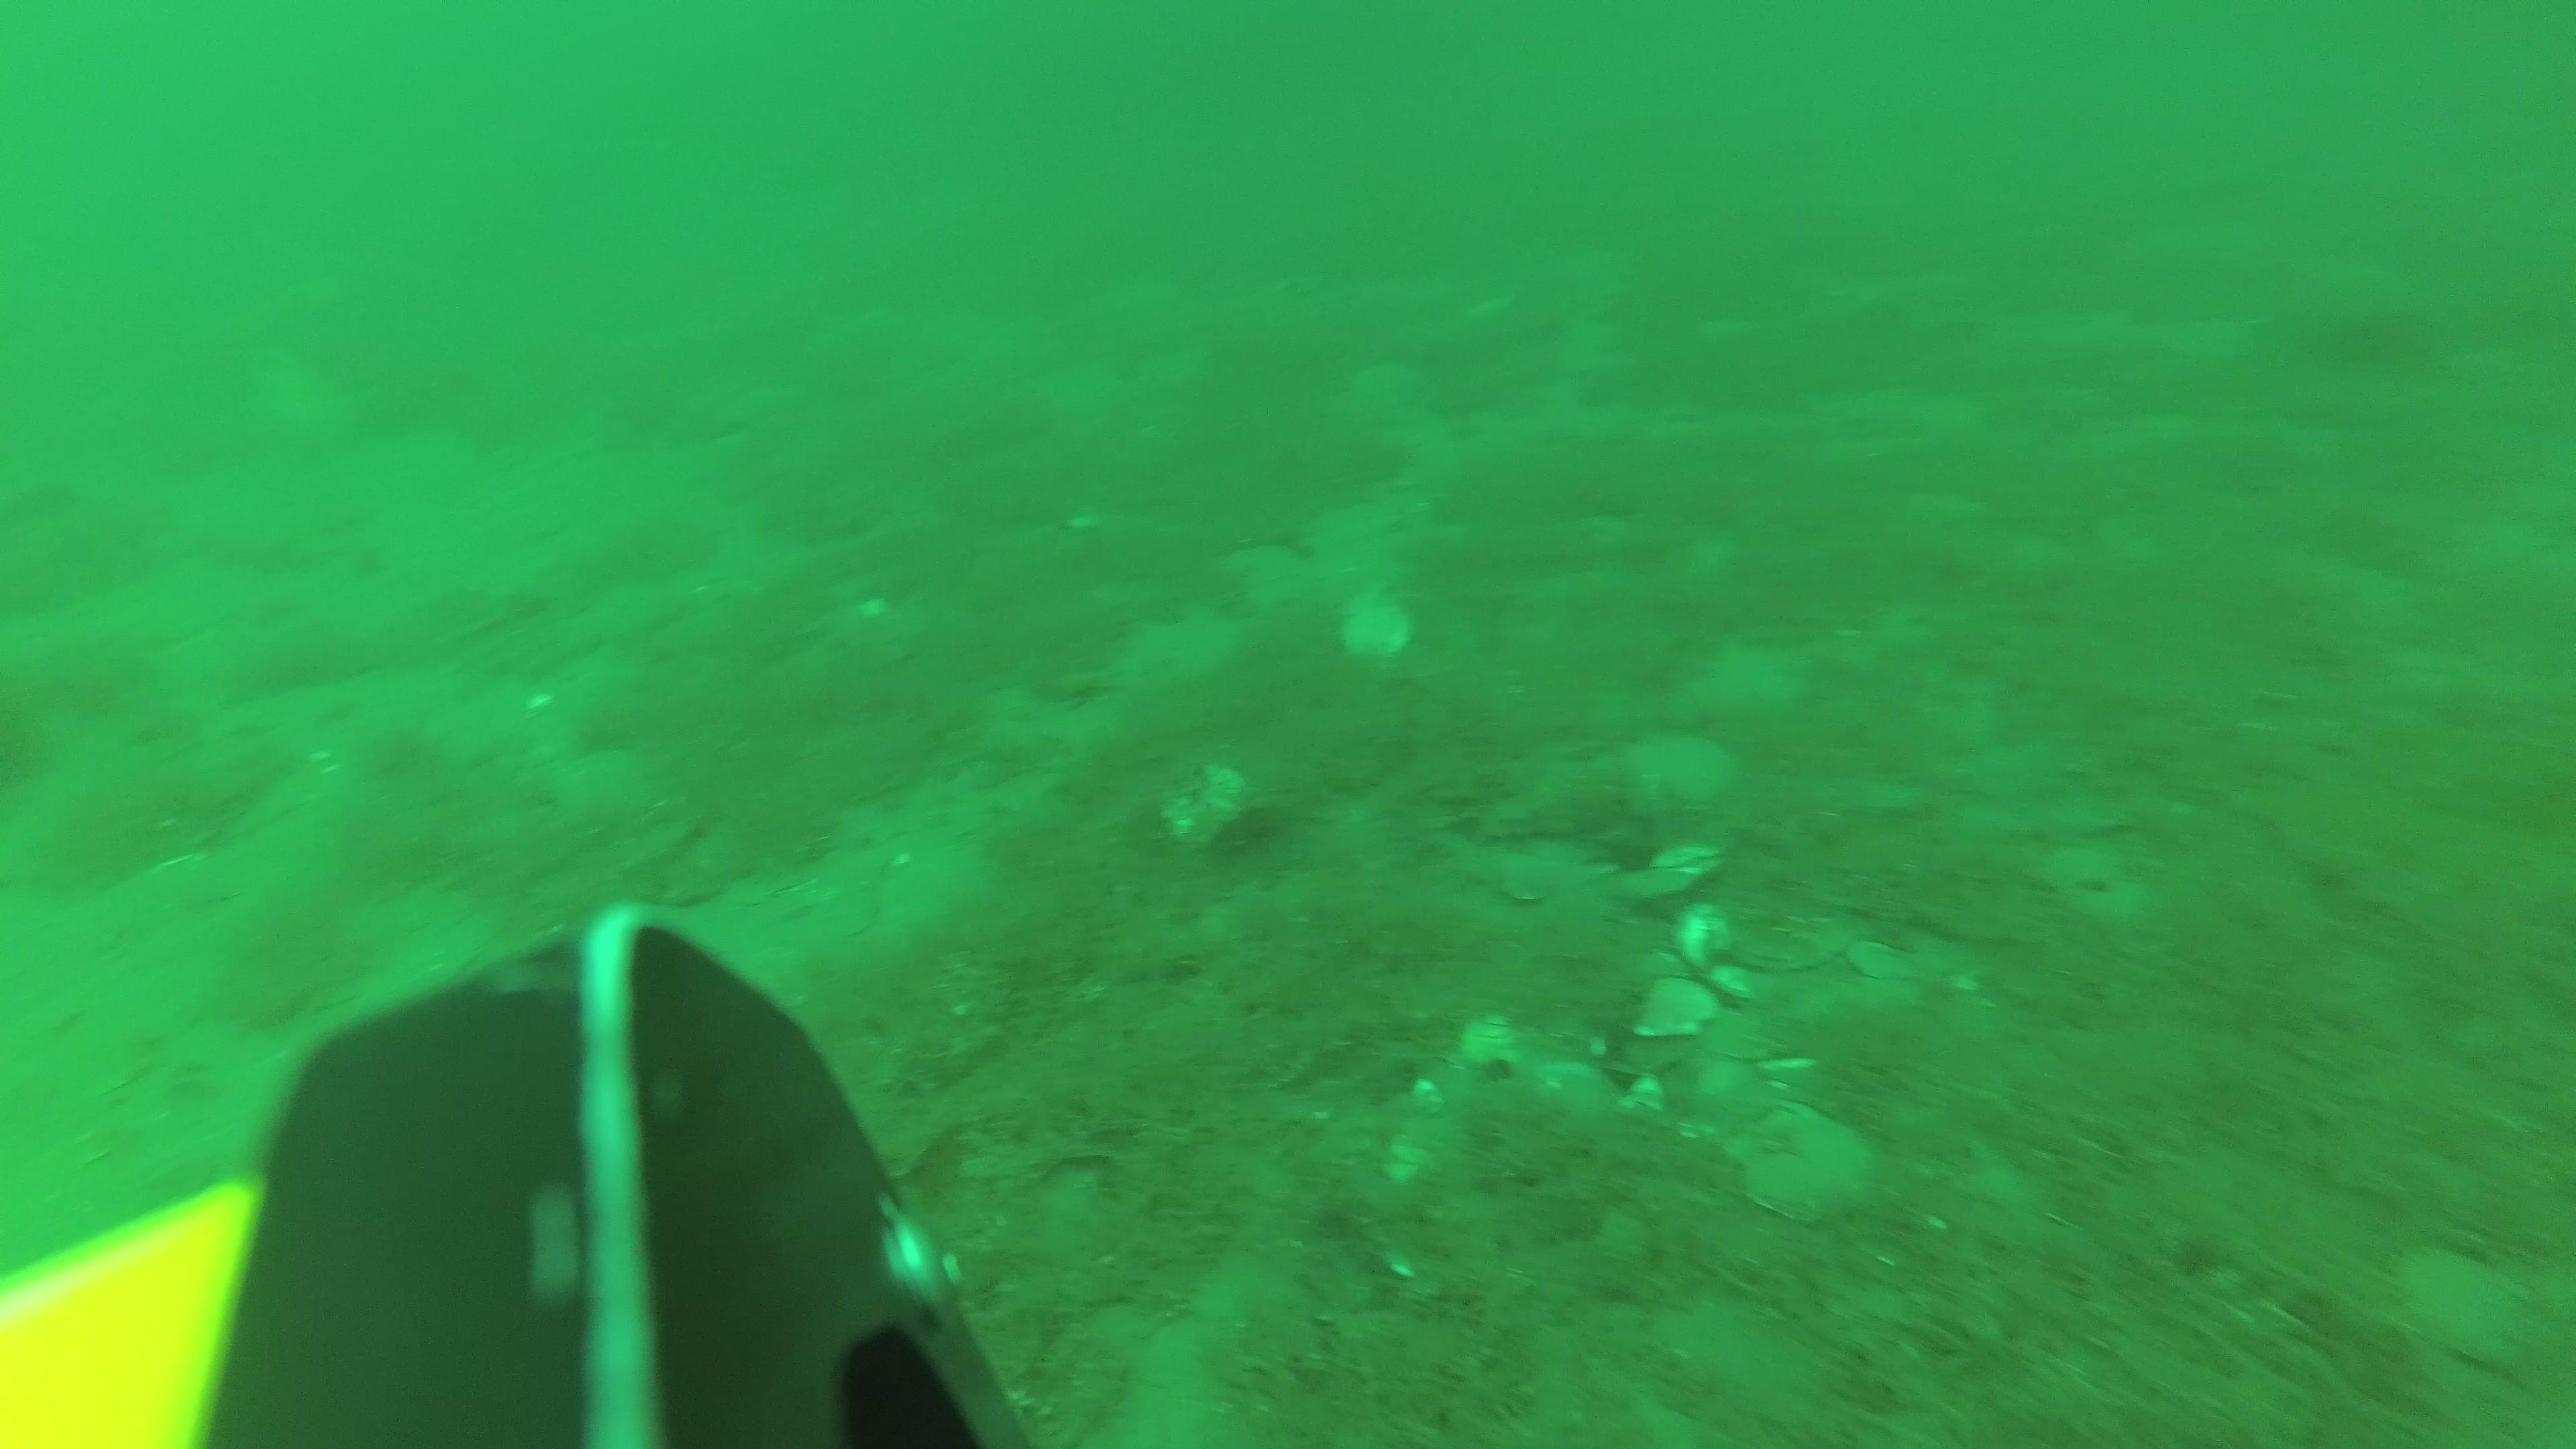scallop: (2403, 1249, 2537, 1368), (1737, 1106, 1870, 1221), (1617, 734, 1732, 816), (1741, 908, 1849, 970), (1635, 971, 1716, 1044), (1674, 906, 1741, 970)
